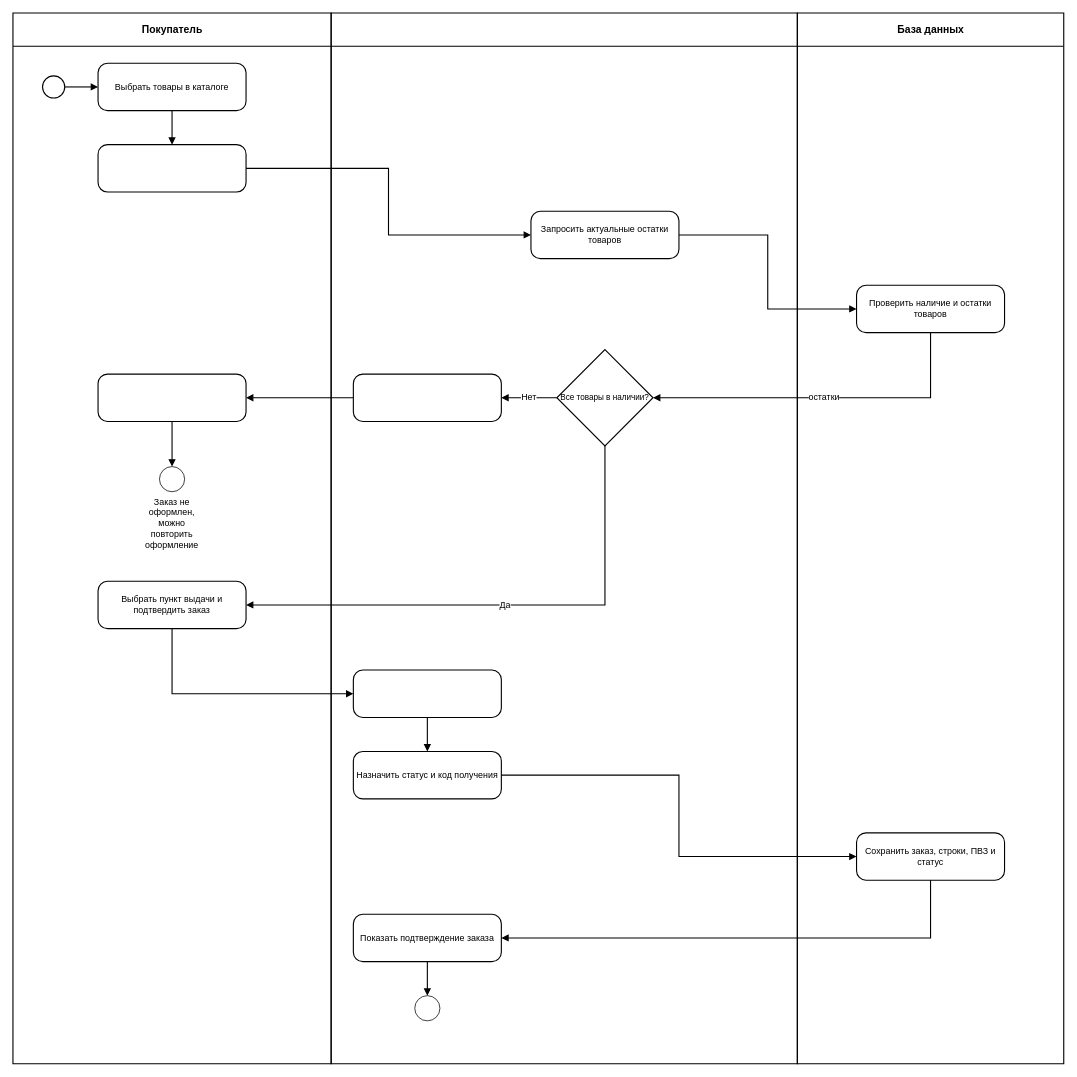
Image size: 1077x1077. Some labels were removed from this diagram. Here are the shapes that lost their labels. From the top down, the box of each, then its label:
(97, 144, 246, 192): Перейти к оформлению заказа
(97, 373, 246, 422): Изменить состав корзины
(352, 373, 502, 422): Показать сообщение, что товара нет в наличии
(330, 12, 798, 1064): Приложение ShoeShop
(352, 669, 502, 718): Создать заказ и строки заказа
(414, 995, 440, 1021): Заказ оформлен
